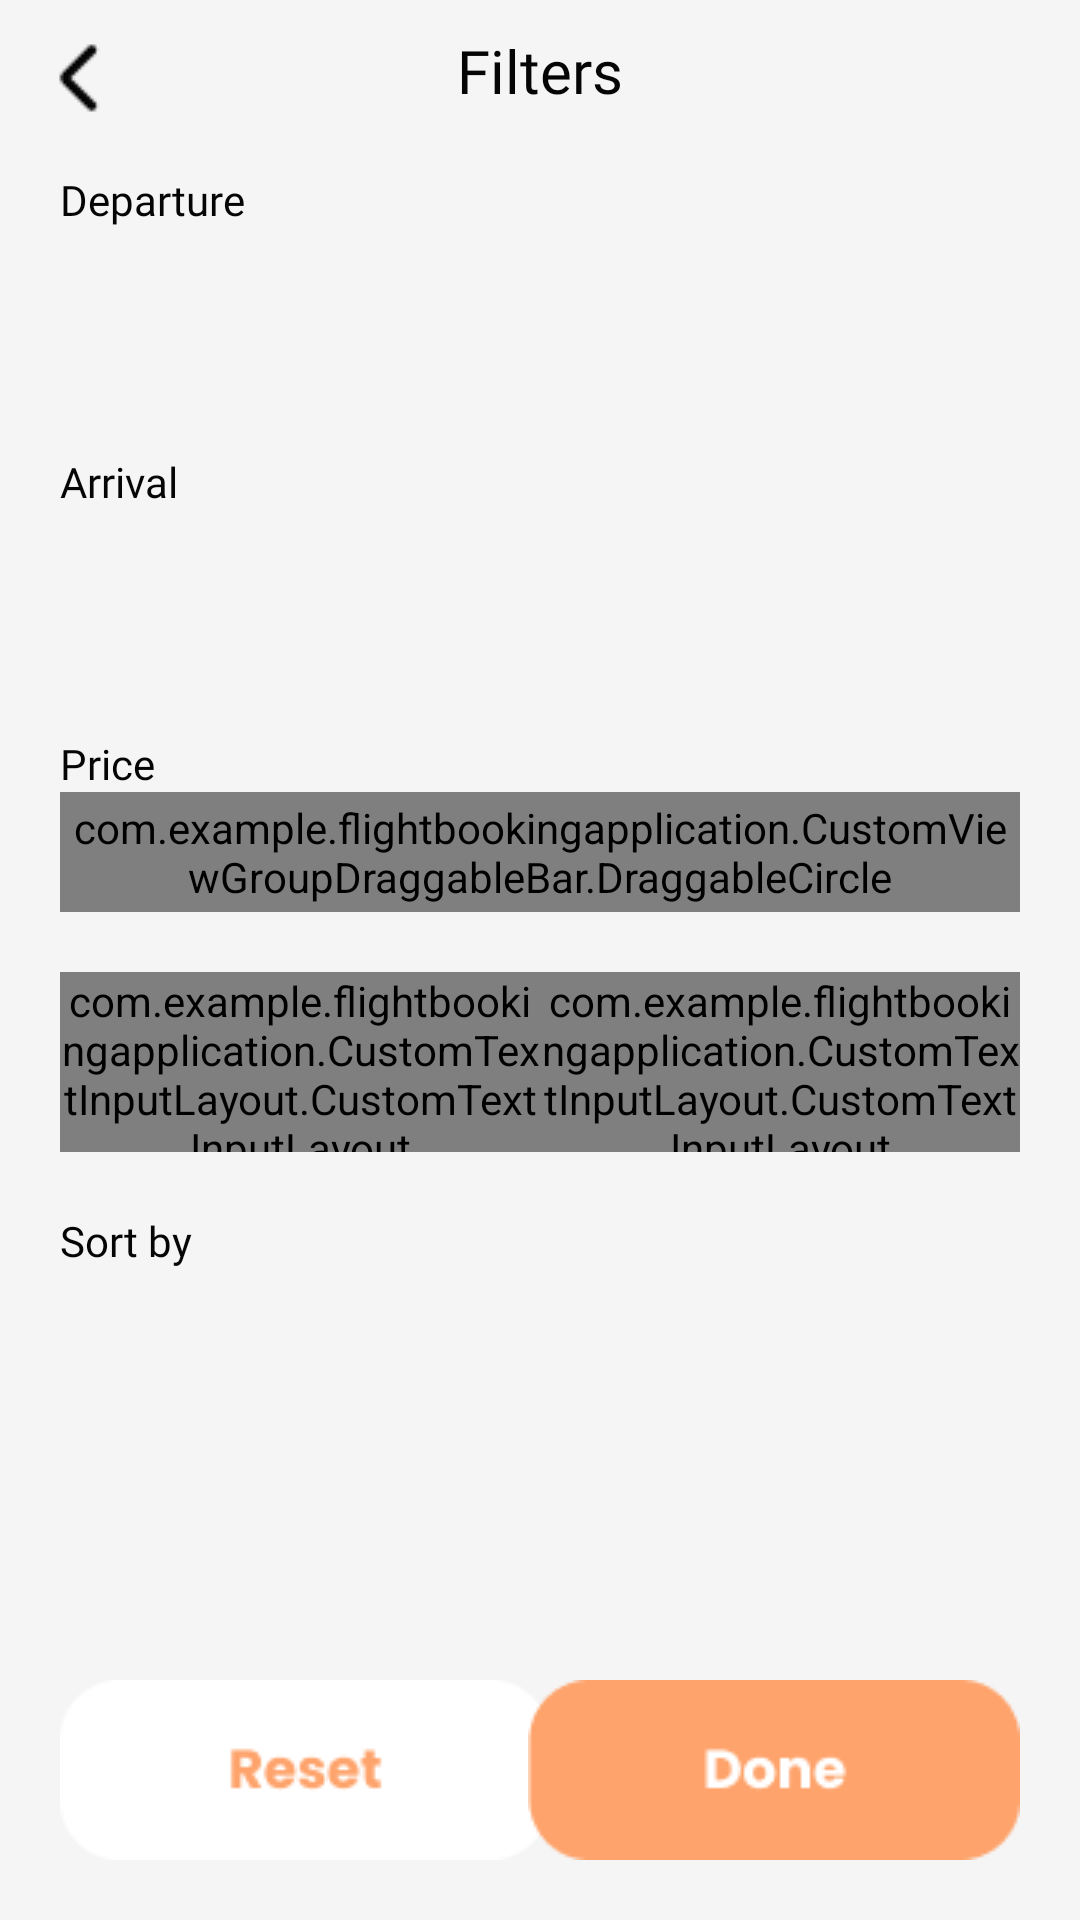

Screen size 1080px×1920px. Icon name, then its box in pixels as (x1, y1, x2, y2):
back: (59, 44, 98, 112)
